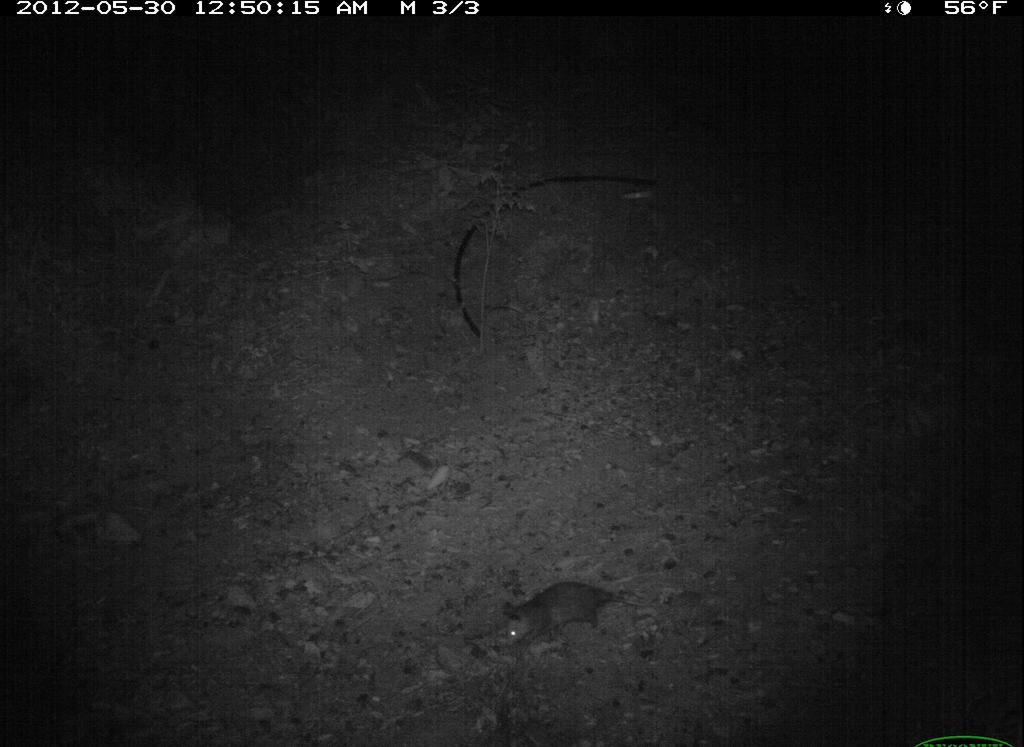opossum: (497, 580, 671, 649)
